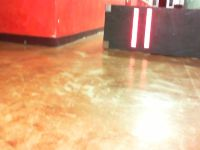switch: (131, 8, 139, 48), (144, 8, 152, 48)
